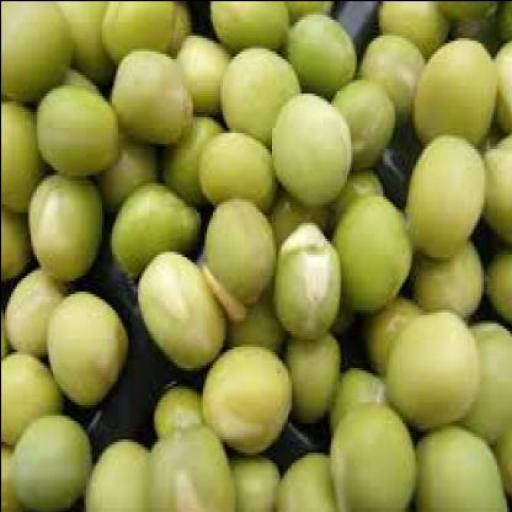biodegradable: (386, 308, 480, 430), (138, 248, 230, 364), (47, 280, 131, 401), (331, 398, 419, 510), (408, 132, 486, 258), (334, 193, 416, 312), (272, 90, 354, 205), (205, 346, 293, 452), (413, 34, 498, 137), (204, 196, 278, 314), (10, 411, 95, 510), (28, 169, 105, 277), (112, 180, 202, 270), (220, 42, 304, 138), (150, 420, 238, 510), (275, 216, 342, 330), (418, 425, 508, 509), (112, 45, 192, 137), (82, 430, 172, 509), (40, 82, 120, 169), (0, 1, 71, 98), (360, 26, 425, 122), (332, 74, 398, 166), (2, 346, 66, 440), (413, 232, 484, 314), (200, 127, 280, 198), (288, 8, 358, 89), (285, 322, 341, 423), (49, 2, 116, 82), (162, 111, 223, 195), (2, 100, 47, 211), (6, 266, 62, 354), (98, 129, 160, 203), (362, 290, 421, 367), (326, 358, 385, 428), (228, 277, 286, 348), (377, 1, 453, 53), (277, 446, 338, 510), (180, 32, 229, 111), (209, 1, 293, 46), (230, 446, 286, 510), (482, 129, 511, 246), (330, 164, 385, 222), (154, 382, 205, 444), (2, 198, 34, 277), (120, 1, 174, 46), (494, 34, 510, 132), (490, 245, 511, 317), (58, 58, 96, 90), (434, 2, 501, 18), (2, 443, 15, 510), (286, 2, 336, 18), (492, 2, 511, 44), (2, 296, 8, 356)
